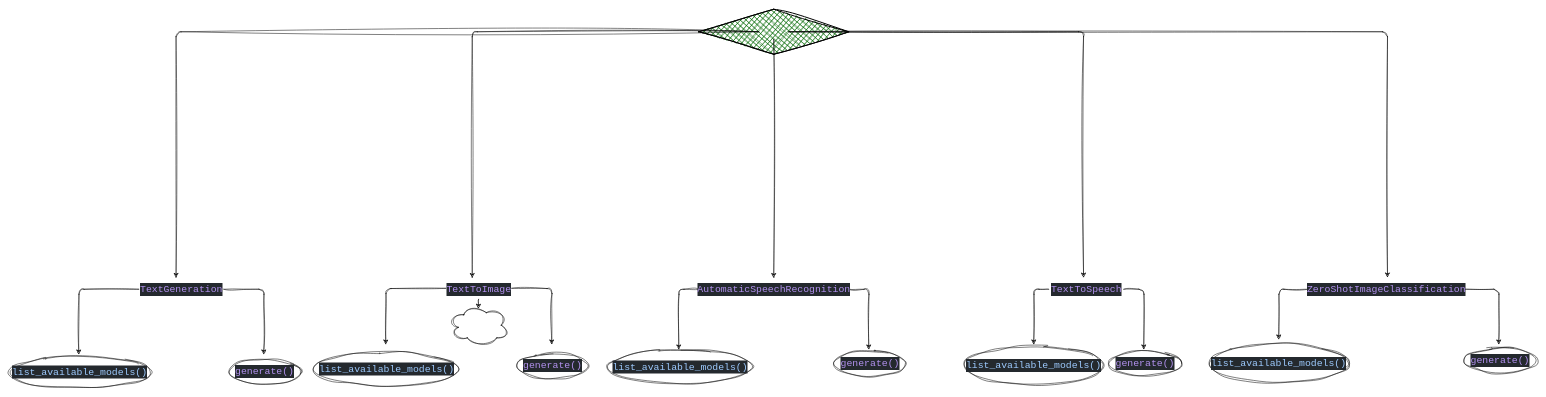
This 1546x397 diagram has some shape labels left out. The shapes that lost their labels are listed below. From the top down, each one's centre as x and y in pixels, then its label:
(773,31): DeepInfra
(478,325): Upcoming feature
